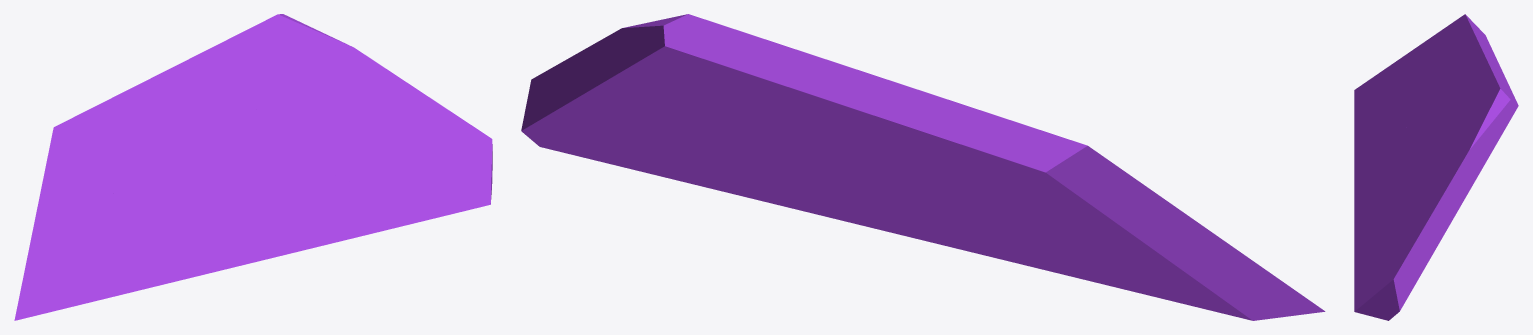
The model's file is Window_97_2_chunks.fbx.
The picture shows the model from 3 angles, left to right: view 1: azimuth 30°, elevation 25°; view 2: azimuth 150°, elevation 25°; view 3: azimuth 270°, elevation 25°; orthographic projection. The views are drawn at different scales.
Parts seen in each view (by area): view 1: Window_97_2_10, Window_97_2_2, Window_97_2_17, Window_97_2_6, Window_97_2_1, Window_97_2_4, Window_97_2_15, Window_97_2_7, Window_97_2_0, Window_97_2_18, Window_97_2_16, Window_97_2_9 (+5 smaller); view 2: Window_97_2_2, Window_97_2_17, Window_97_2_15, Window_97_2_13, Window_97_2_12, Window_97_2_6, Window_97_2_0, Window_97_2_11, Window_97_2_4, Window_97_2_5, Window_97_2_9, Window_97_2_18 (+2 smaller); view 3: Window_97_2_13, Window_97_2_2, Window_97_2_9, Window_97_2_10, Window_97_2_17, Window_97_2_6, Window_97_2_1, Window_97_2_14, Window_97_2_15, Window_97_2_4, Window_97_2_7, Window_97_2_18 (+5 smaller).
Part boxes in pixels (x1=…): Window_97_2_10: x1=274, y1=94, x2=422, y2=180; Window_97_2_2: x1=117, y1=31, x2=272, y2=148; Window_97_2_17: x1=14, y1=213, x2=134, y2=320; Window_97_2_6: x1=138, y1=171, x2=306, y2=290; Window_97_2_1: x1=161, y1=102, x2=275, y2=199; Window_97_2_4: x1=300, y1=175, x2=434, y2=249; Window_97_2_15: x1=50, y1=95, x2=150, y2=176; Window_97_2_7: x1=374, y1=153, x2=491, y2=218; Window_97_2_0: x1=119, y1=186, x2=224, y2=295; Window_97_2_18: x1=34, y1=145, x2=114, y2=221; Window_97_2_16: x1=112, y1=136, x2=168, y2=259; Window_97_2_9: x1=422, y1=94, x2=492, y2=194; Window_97_2_2: x1=749, y1=34, x2=977, y2=196; Window_97_2_17: x1=1054, y1=217, x2=1325, y2=320; Window_97_2_15: x1=972, y1=108, x2=1122, y2=223; Window_97_2_13: x1=530, y1=26, x2=689, y2=141; Window_97_2_12: x1=646, y1=15, x2=788, y2=137; Window_97_2_6: x1=825, y1=182, x2=1078, y2=278; Window_97_2_0: x1=858, y1=178, x2=1131, y2=291; Window_97_2_11: x1=618, y1=100, x2=795, y2=152; Window_97_2_4: x1=620, y1=152, x2=845, y2=221; Window_97_2_5: x1=712, y1=150, x2=866, y2=198; Window_97_2_9: x1=521, y1=54, x2=625, y2=161; Window_97_2_18: x1=1110, y1=161, x2=1202, y2=226; Window_97_2_13: x1=1407, y1=128, x2=1503, y2=297; Window_97_2_2: x1=1436, y1=35, x2=1510, y2=130; Window_97_2_9: x1=1365, y1=215, x2=1430, y2=320; Window_97_2_10: x1=1386, y1=135, x2=1443, y2=245; Window_97_2_17: x1=1354, y1=51, x2=1411, y2=138; Window_97_2_6: x1=1354, y1=147, x2=1408, y2=225; Window_97_2_1: x1=1396, y1=89, x2=1447, y2=155; Window_97_2_14: x1=1449, y1=88, x2=1507, y2=159; Window_97_2_15: x1=1426, y1=14, x2=1490, y2=75; Window_97_2_4: x1=1354, y1=201, x2=1394, y2=284; Window_97_2_7: x1=1354, y1=234, x2=1394, y2=315; Window_97_2_18: x1=1404, y1=21, x2=1454, y2=92.
Size of the model in its own units: 1350 by 431 by 401.
